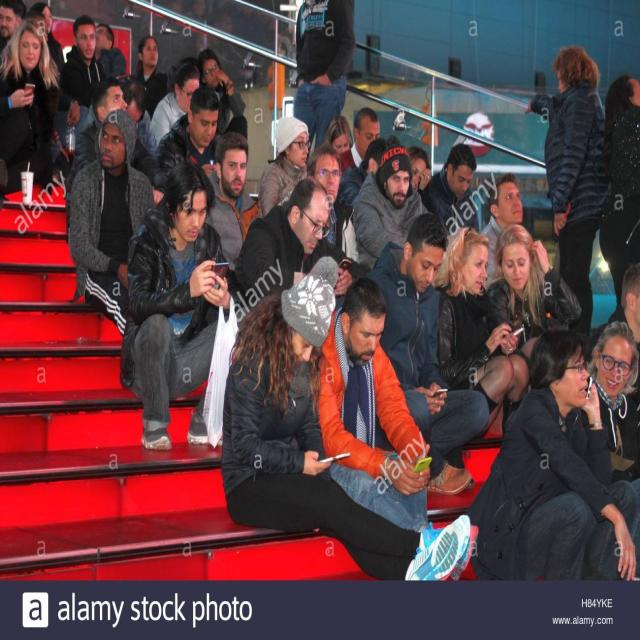body: (219, 254, 473, 581), (313, 275, 479, 580), (466, 328, 638, 582), (116, 159, 249, 456), (363, 212, 491, 498), (523, 45, 608, 365), (430, 225, 531, 444), (66, 105, 158, 338), (62, 74, 170, 238), (233, 176, 366, 300), (352, 135, 451, 271), (484, 222, 583, 349), (0, 14, 62, 202), (595, 73, 640, 316), (565, 319, 640, 463), (292, 0, 356, 167), (157, 0, 293, 71), (204, 130, 264, 272), (309, 106, 390, 205), (301, 142, 361, 268), (583, 262, 640, 393), (153, 84, 224, 187), (476, 171, 524, 292), (420, 142, 480, 237), (258, 115, 310, 219), (0, 0, 66, 73), (62, 13, 111, 108), (198, 48, 248, 141), (150, 63, 201, 147), (130, 35, 169, 122), (93, 21, 128, 82), (404, 146, 431, 193)
